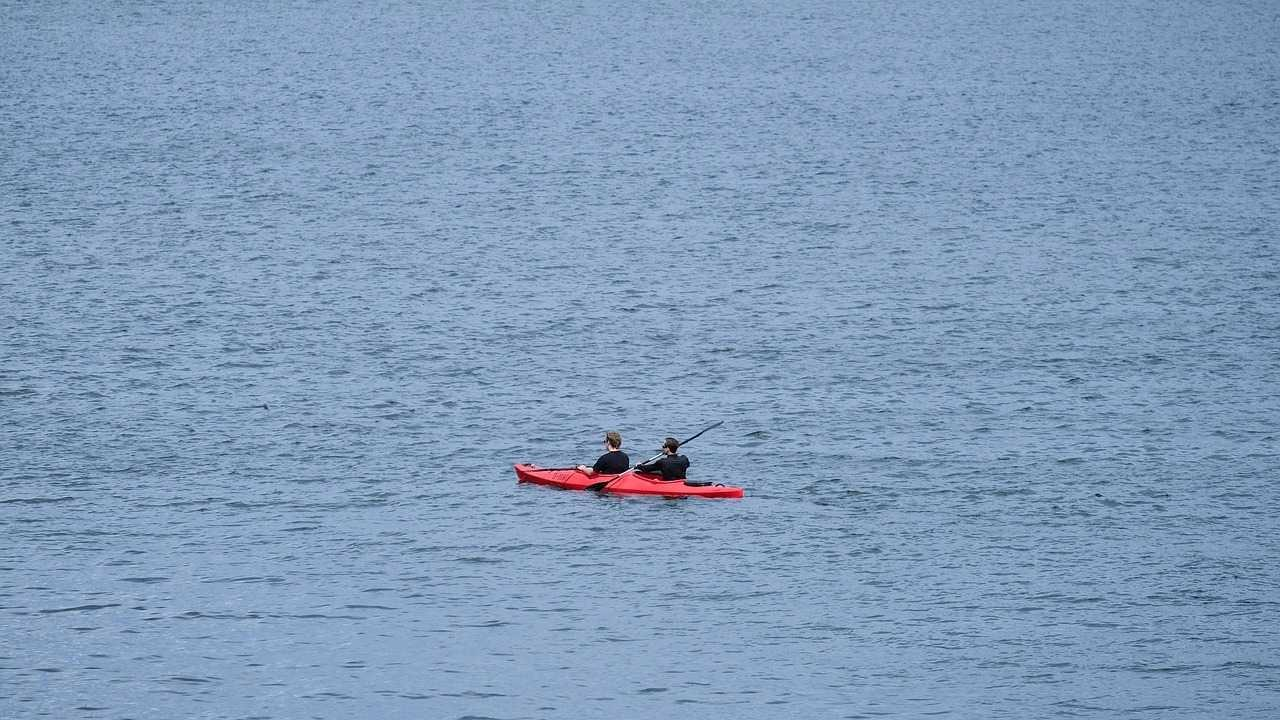kayak: (515, 462, 745, 500), (637, 437, 690, 482)
